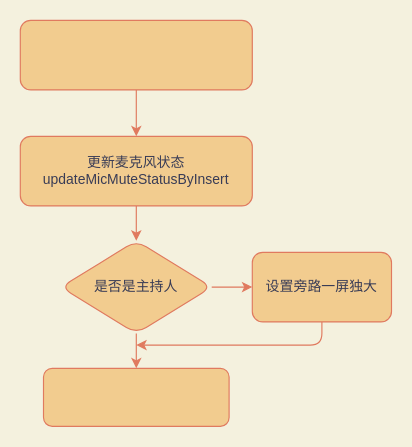
This 412x447 diagram has some shape labels left out. Here are the shapes that lost their labels. From the top down, the centre of each, then its label:
At (135,54): "监听到插播流加入消息 INSERT_FILE_STREAM_ADD".
At (135,396): "订阅插播流".
